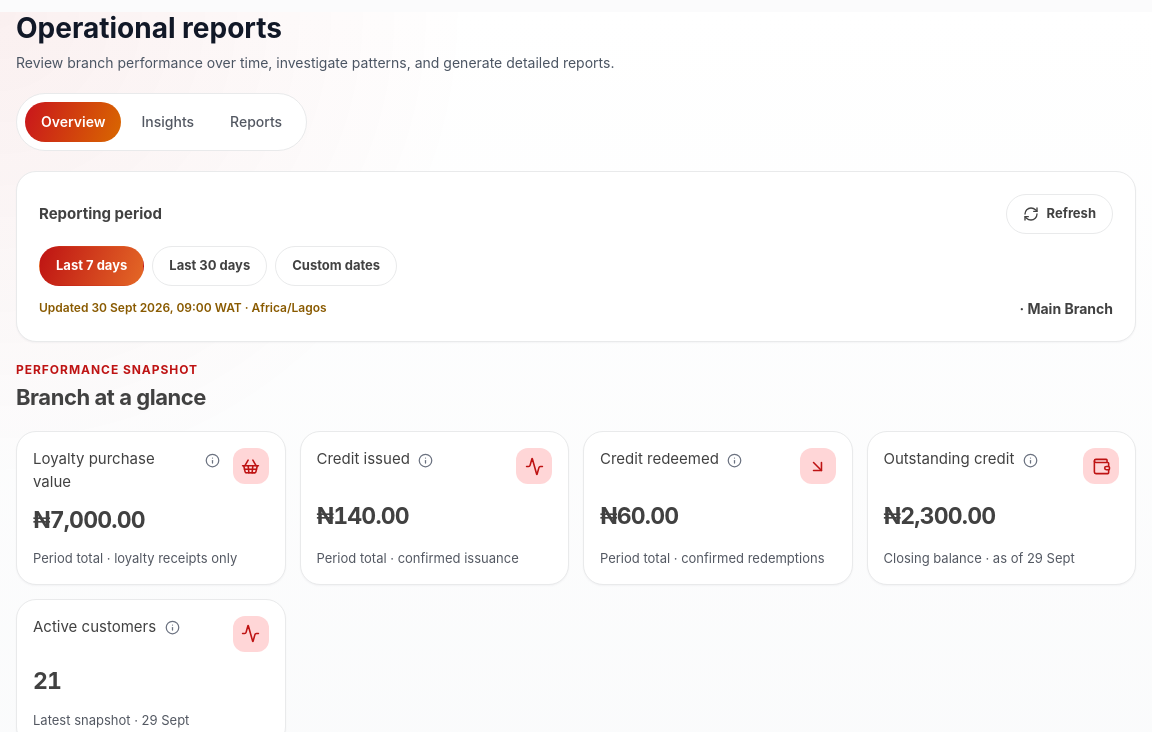
Test case: SupervisorOperationalReports › queues a branch refresh and reloads after materialization completes
Click the button with aria-label "Refresh dashboard data". click: coordinates (1059, 214)
box: [1006, 194, 1113, 234]
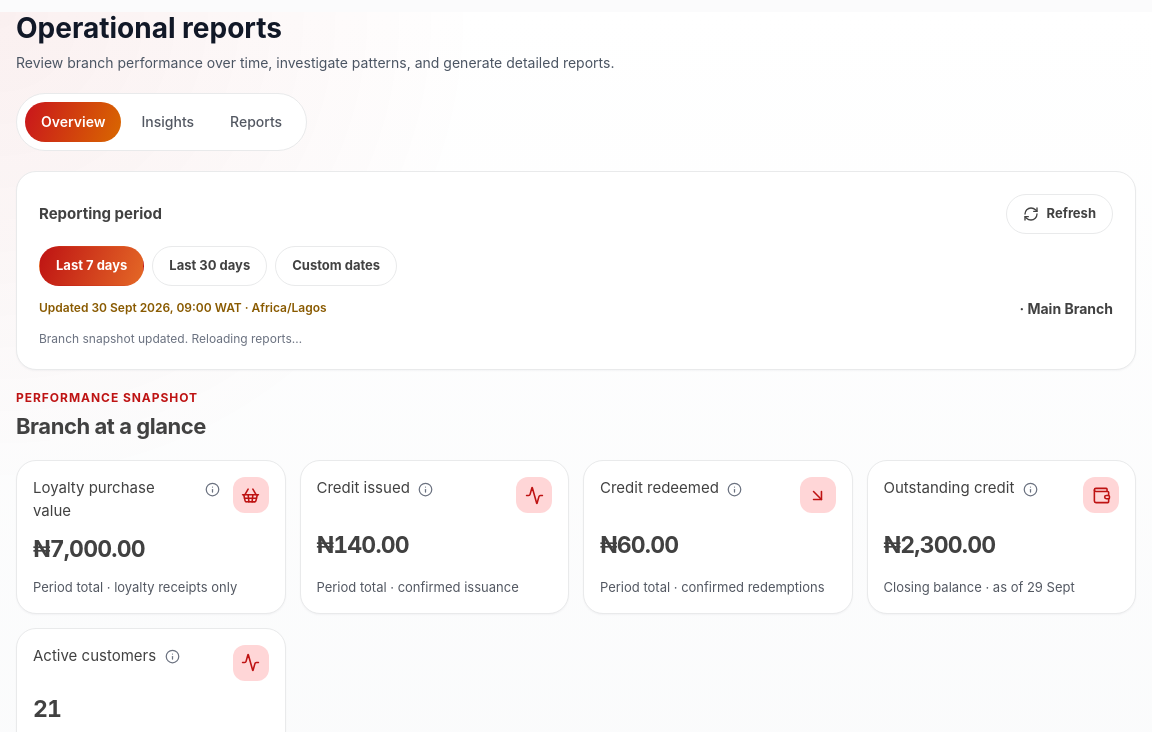
Now the text "Branch snapshot updated. Reloading reports…" is shown, box [39, 331, 302, 346]
